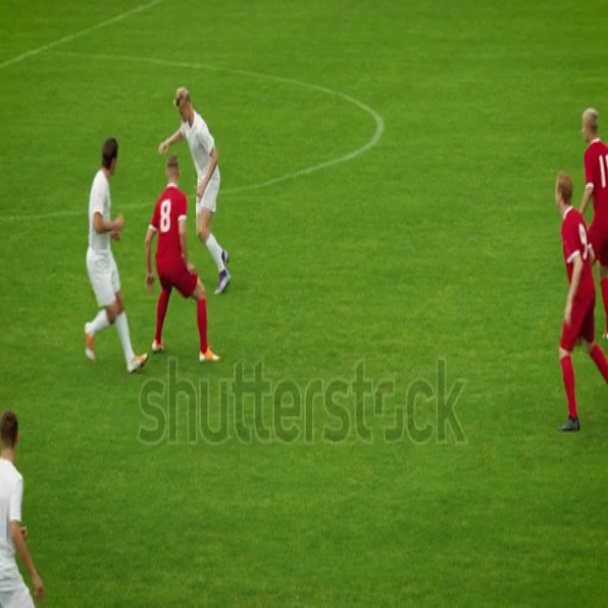ball: (186, 260, 203, 295)
